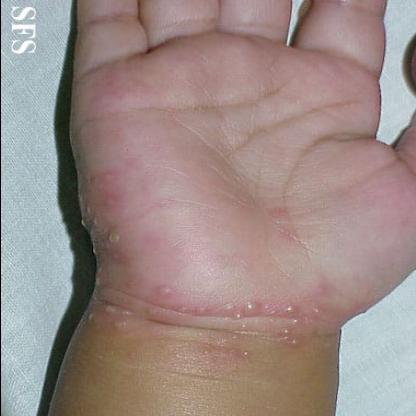Fire ant: (148, 284, 342, 358), (71, 268, 141, 338), (78, 164, 121, 266)
